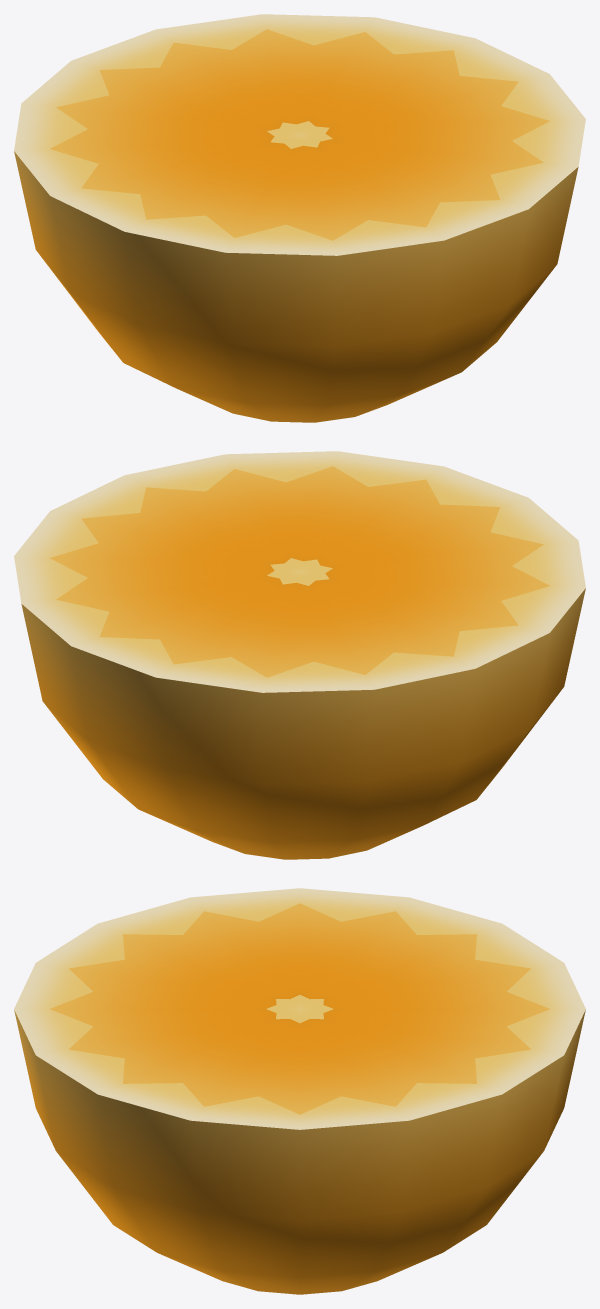
The model's file is Fbx_Fruit_OrangePart.fbx_Half.fbx.
3 renders of one model, top to bottom at view 1: azimuth 30°, elevation 25°; view 2: azimuth 150°, elevation 25°; view 3: azimuth 270°, elevation 25°, orthographic.
Visible parts, largest first — view 1: Fruit Half; view 2: Fruit Half; view 3: Fruit Half.
Part boxes in pixels (x1,y1,x2,y2): Fruit Half: (14, 14, 585, 422); Fruit Half: (14, 451, 585, 859); Fruit Half: (14, 888, 585, 1294).
Bounding box in the file's own units: 2 × 1 × 2.
